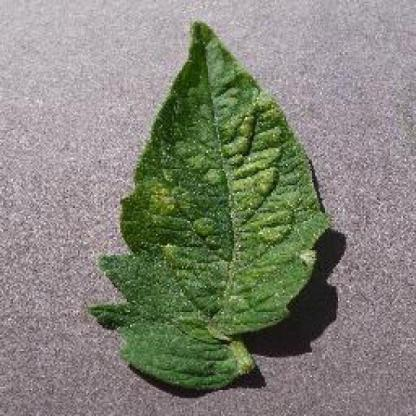Tomato_Spider_Mites: (93, 25, 331, 388)
